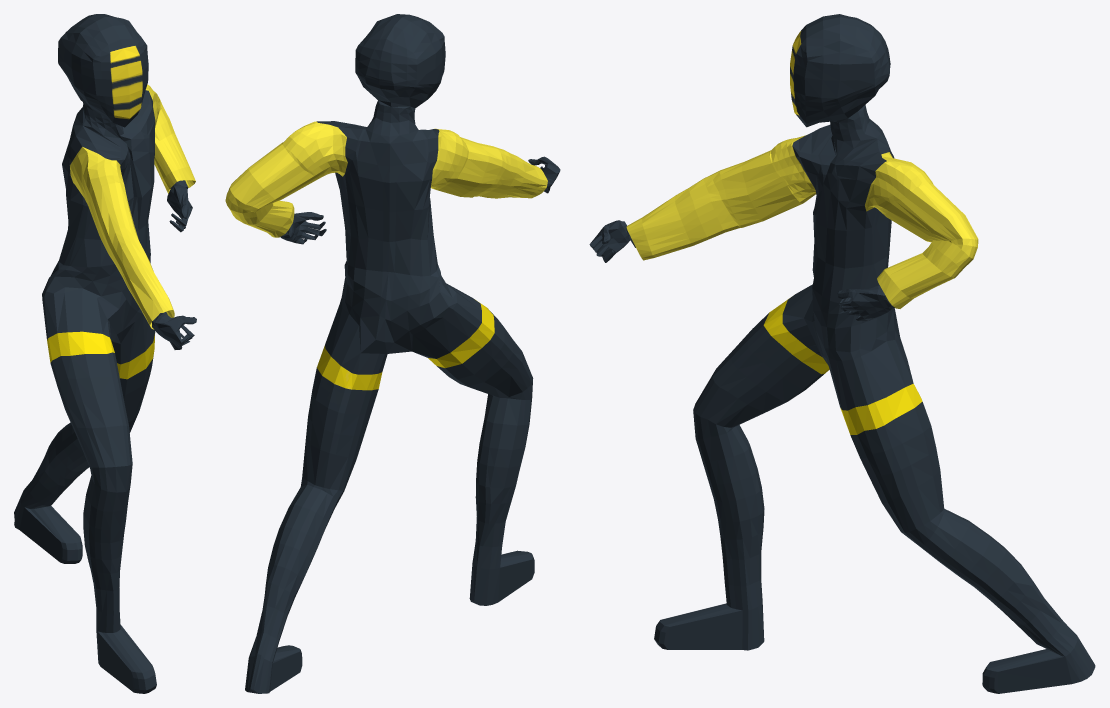
File: Sentry_Attack_000039.obj
The picture shows the model from 3 angles, left to right: view 1: azimuth 30°, elevation 25°; view 2: azimuth 150°, elevation 25°; view 3: azimuth 270°, elevation 25°; orthographic projection. The views are drawn at different scales.
Parts seen in each view (by area): view 1: Cube; view 2: Cube; view 3: Cube.
Boxes of the visible parts, bbox=[...] form: Cube: bbox=[14, 14, 196, 693]; Cube: bbox=[225, 14, 560, 693]; Cube: bbox=[589, 14, 1095, 693].
Bounding box in the file's own units: 1.2 × 3.62 × 2.55.
